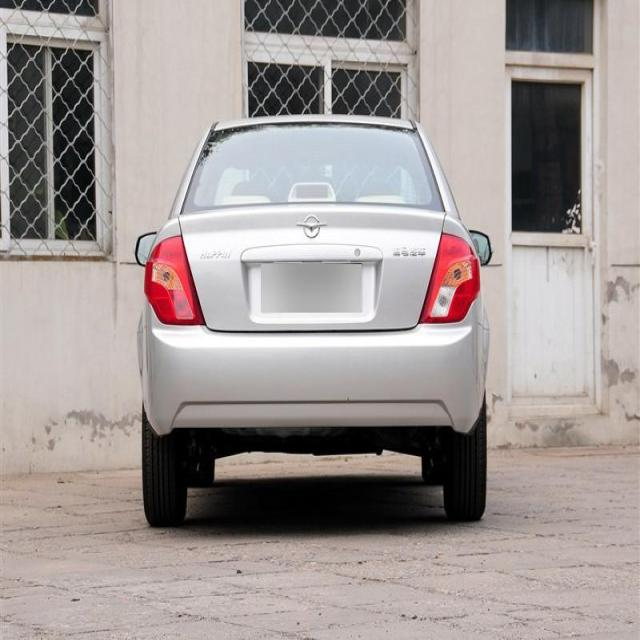back_glass: (176, 122, 444, 215)
back_left_side_light: (144, 235, 206, 328)
back_right_side_light: (420, 232, 482, 328)
front_left_side_mirror: (134, 224, 157, 268)
front_right_side_mirror: (467, 224, 495, 264)
rear_bumper: (139, 294, 485, 436)
